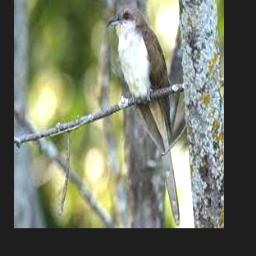Cuckoo: (106, 5, 180, 225)
